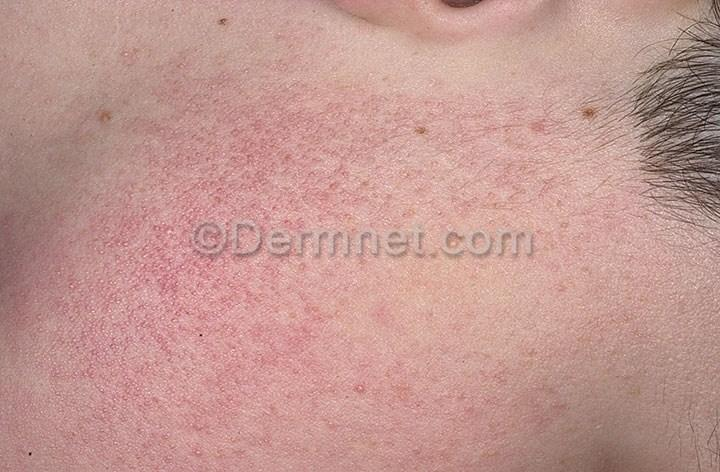edema 1: (27, 88, 418, 466)
eritema 1: (4, 54, 568, 469)
